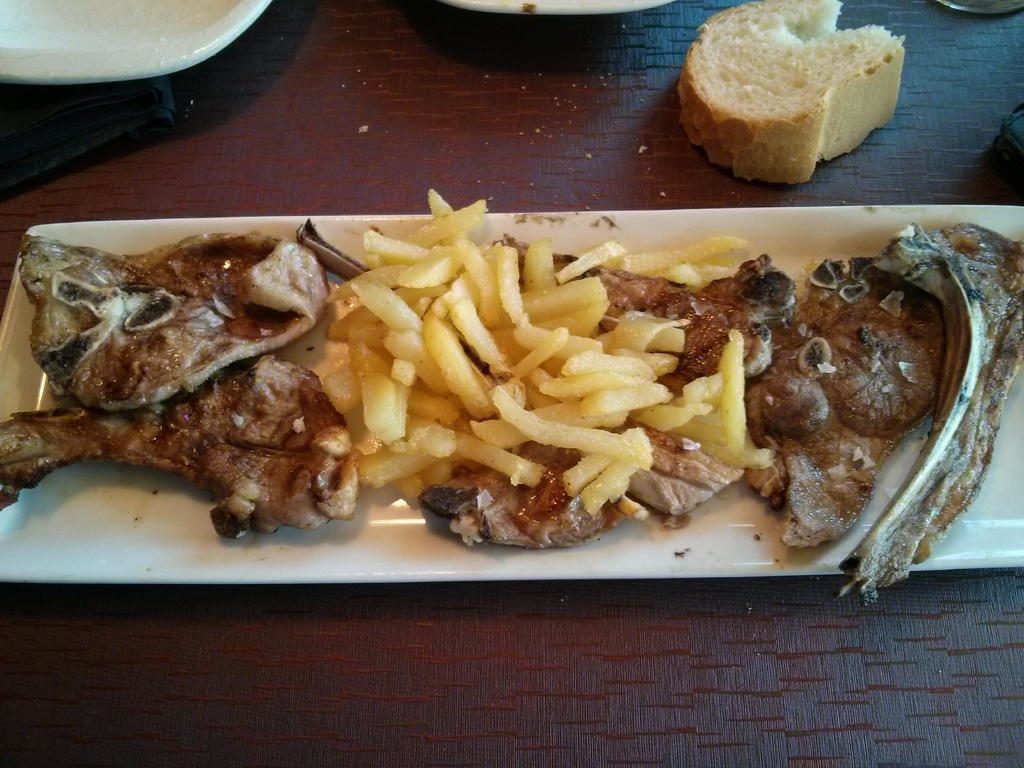French fries: (306, 221, 858, 545)
